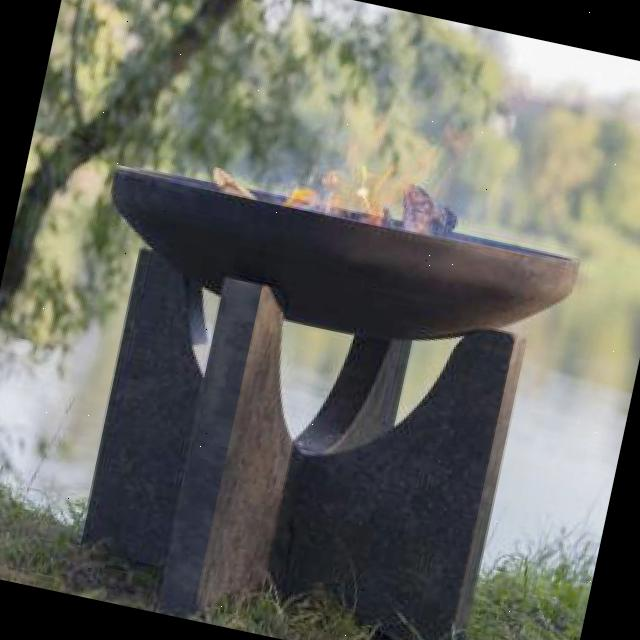fire: (198, 130, 436, 240)
